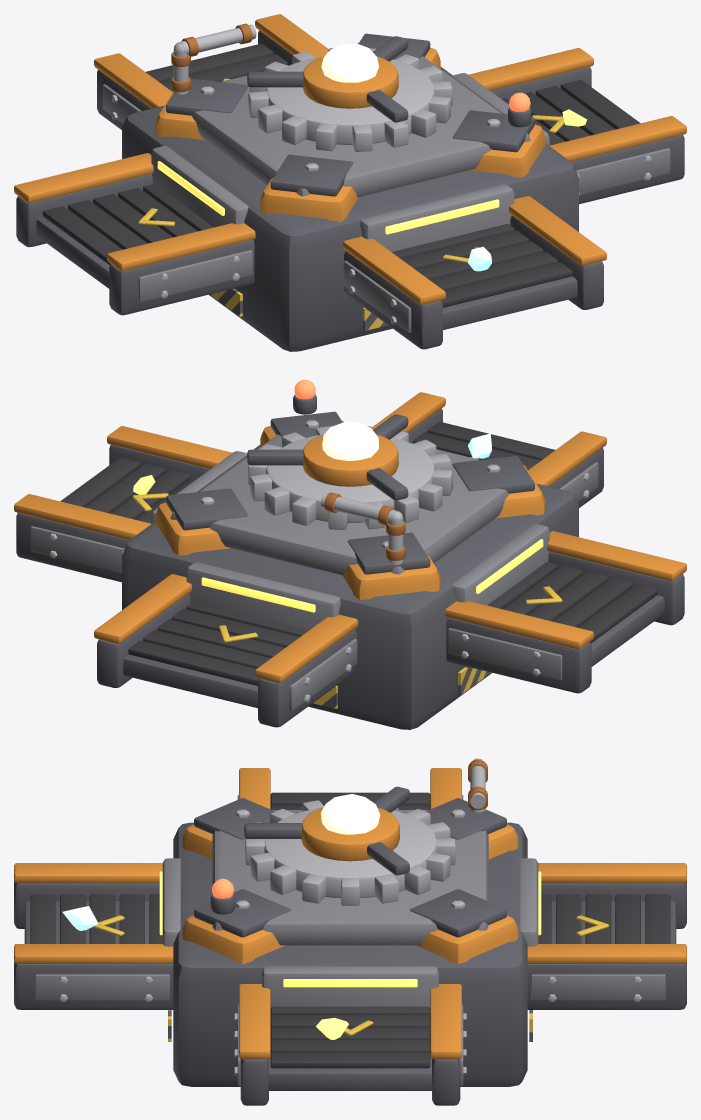
File: Splitter.glb
3 views of the same model, one above another, from view 1: azimuth 30°, elevation 25°; view 2: azimuth 150°, elevation 25°; view 3: azimuth 270°, elevation 25° (orthographic). The views are drawn at different scales.
Parts seen in each view (by area): view 1: Splitter; view 2: Splitter; view 3: Splitter.
Part boxes in pixels (left/top/right/bottom): Splitter: left=14, top=14, right=686, bottom=351; Splitter: left=14, top=380, right=686, bottom=729; Splitter: left=14, top=758, right=686, bottom=1105.
Size of the model in its own units: 1.9 by 0.6885 by 1.9.
